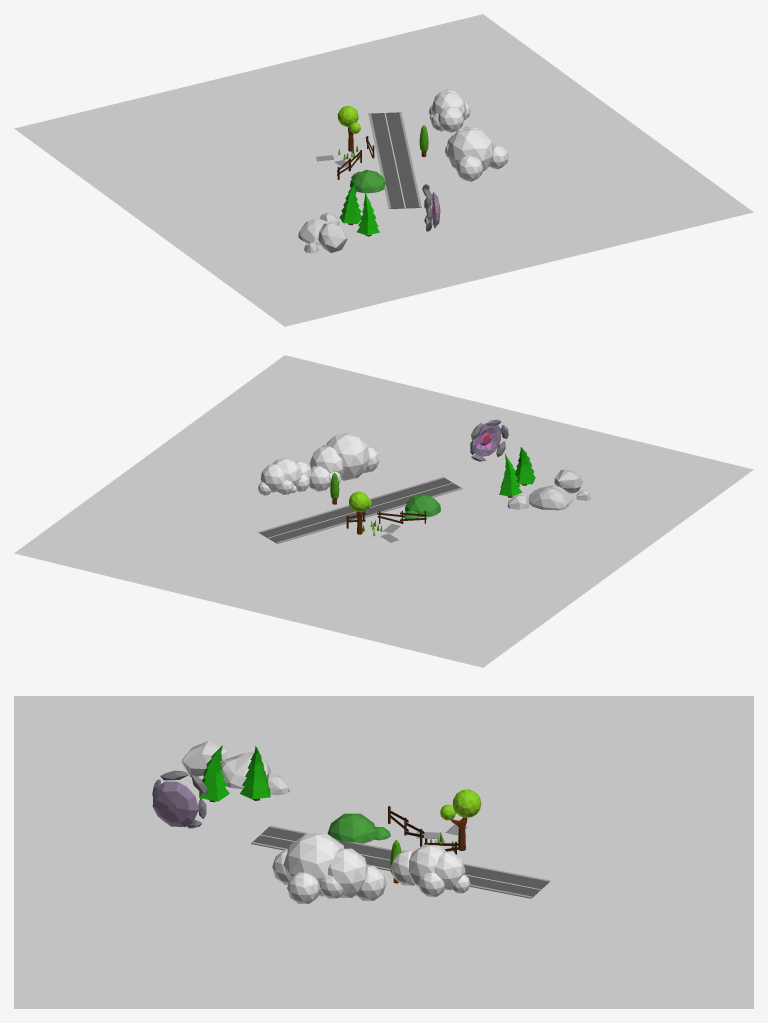
Rendered from Low-Poly_Models.fbx.
The picture shows the model from 3 angles, top to bottom: view 1: azimuth 30°, elevation 25°; view 2: azimuth 150°, elevation 25°; view 3: azimuth 270°, elevation 25°; orthographic projection. The views are drawn at different scales.
Visible parts, largest first — view 1: Plane, Cube.016, Icosphere.016, Sphere.001, Icosphere.025, Cylinder.001, Icosphere.013, Icosphere.003, Icosphere.010, Cylinder; view 2: Plane, Cube.016, Icosphere.016, Sphere, Cylinder.011, Icosphere.017, Icosphere.025, Cylinder.001; view 3: Plane, Cube.016, Icosphere.016, Cylinder.011, Icosphere.017, Icosphere.025, Cylinder.001, Cylinder, Icosphere.010, Sphere, Sphere.001, Icosphere.015 (+4 smaller).
Boxes of the visible parts, box(x1,y1,x2,y2) form: Plane: box(14, 14, 753, 326); Cube.016: box(368, 112, 421, 208); Icosphere.016: box(447, 128, 493, 171); Sphere.001: box(318, 223, 347, 252); Icosphere.025: box(350, 169, 385, 193); Cylinder.001: box(339, 181, 361, 225); Icosphere.013: box(456, 156, 483, 181); Icosphere.003: box(438, 106, 463, 132); Icosphere.010: box(431, 91, 466, 117); Cylinder: box(357, 192, 379, 236); Plane: box(14, 355, 753, 667); Cube.016: box(258, 477, 462, 543); Icosphere.016: box(325, 433, 369, 480); Sphere: box(528, 485, 573, 510); Cylinder.011: box(472, 423, 500, 456); Icosphere.017: box(310, 446, 343, 477); Icosphere.025: box(405, 494, 440, 517); Cylinder.001: box(499, 453, 522, 497); Plane: box(14, 696, 753, 1008); Cube.016: box(251, 825, 550, 898); Icosphere.016: box(283, 833, 344, 896); Cylinder.011: box(152, 781, 198, 826); Icosphere.017: box(327, 848, 367, 897); Icosphere.025: box(327, 813, 375, 843); Cylinder.001: box(239, 746, 270, 800); Cylinder: box(199, 745, 229, 802); Icosphere.010: box(408, 844, 446, 887); Sphere: box(220, 752, 270, 788); Sphere.001: box(181, 741, 227, 777); Icosphere.015: box(287, 872, 320, 903).
Bounding box in the file's own units: 4701 × 632 × 4701.
